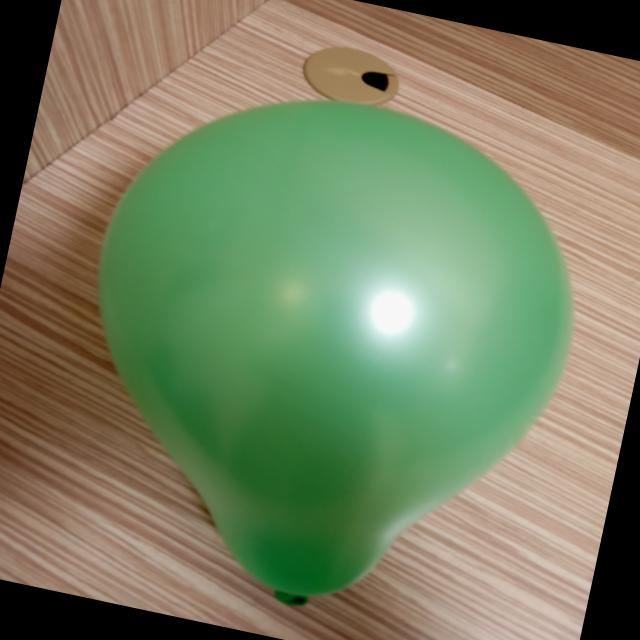balloon: (98, 100, 572, 604)
